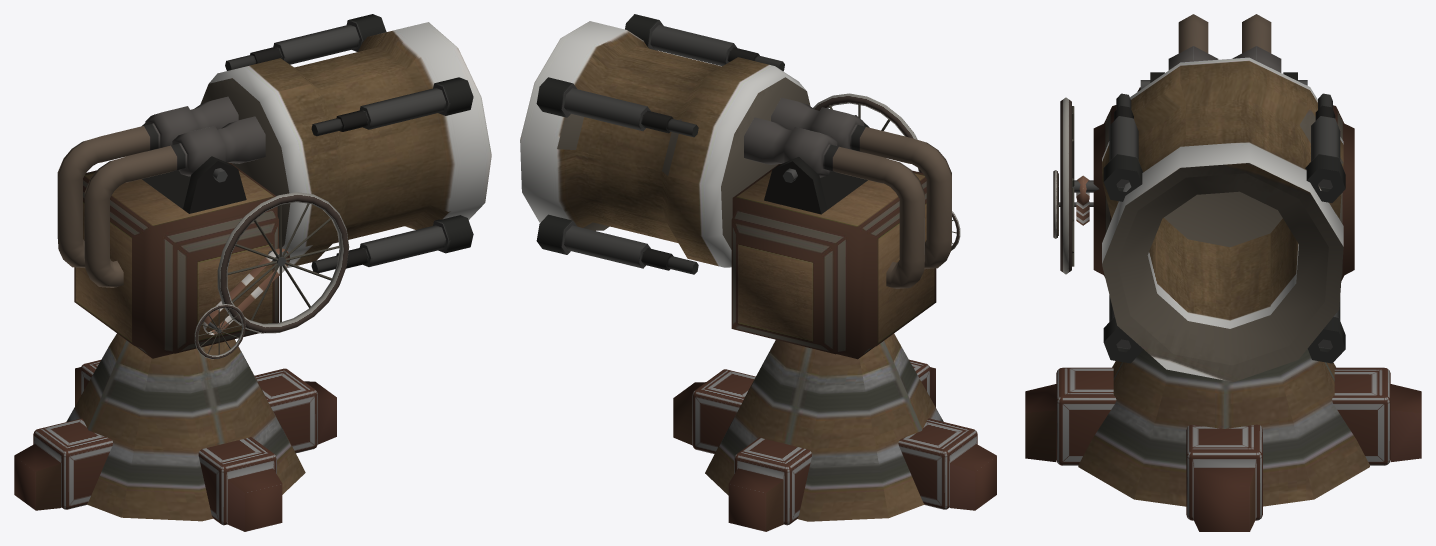
File: Turret_textured.fbx
3 renders of one model, left to right at view 1: azimuth 30°, elevation 25°; view 2: azimuth 150°, elevation 25°; view 3: azimuth 270°, elevation 25°, orthographic. The views are drawn at different scales.
Visible parts, largest first — view 1: canon, stand, box, pipe1, pipe2, Cube_3, Cube, Cube_1, wheel, lock1, lock4, lock2 (+3 smaller); view 2: canon, box, stand, pipe2, pipe1, Cube_3, Cube_2, Cube_1, lock3, lock2, Cylinder_3, lock1 (+2 smaller); view 3: canon, stand, Cube_1, Cube, Cube_2, box, lock2, lock1, wheel, pipe1, pipe2, lock3 (+2 smaller).
Part boxes in pixels (bbox=[...]): canon: bbox=[200, 22, 491, 268]; stand: bbox=[66, 333, 305, 521]; box: bbox=[74, 162, 278, 358]; pipe1: bbox=[84, 116, 265, 287]; pipe2: bbox=[57, 96, 238, 267]; Cube_3: bbox=[14, 418, 112, 510]; Cube: bbox=[198, 437, 282, 531]; Cube_1: bbox=[255, 368, 336, 453]; wheel: bbox=[217, 192, 349, 333]; lock1: bbox=[311, 77, 473, 136]; lock4: bbox=[311, 215, 473, 273]; lock2: bbox=[225, 14, 386, 70]; canon: bbox=[520, 21, 810, 267]; box: bbox=[731, 164, 936, 359]; stand: bbox=[705, 333, 943, 521]; pipe2: bbox=[744, 117, 924, 288]; pipe1: bbox=[771, 97, 951, 269]; Cube_3: bbox=[898, 418, 996, 510]; Cube_2: bbox=[728, 437, 811, 531]; Cube_1: bbox=[673, 369, 755, 453]; lock3: bbox=[536, 214, 698, 274]; lock2: bbox=[536, 77, 698, 137]; Cylinder_3: bbox=[764, 115, 869, 214]; lock1: bbox=[625, 14, 784, 71]; canon: bbox=[1102, 57, 1343, 382]; stand: bbox=[1078, 349, 1369, 506]; Cube_1: bbox=[1186, 424, 1262, 531]; Cube: bbox=[1025, 367, 1116, 465]; Cube_2: bbox=[1332, 367, 1421, 465]; box: bbox=[1093, 87, 1354, 280]; lock2: bbox=[1305, 93, 1345, 202]; lock1: bbox=[1103, 93, 1142, 201]; wheel: bbox=[1060, 97, 1071, 274]; pipe1: bbox=[1168, 14, 1218, 70]; pipe2: bbox=[1232, 14, 1281, 72]; lock3: bbox=[1307, 297, 1345, 363].
Bounding box in the file's own units: 364 × 315 × 258.
